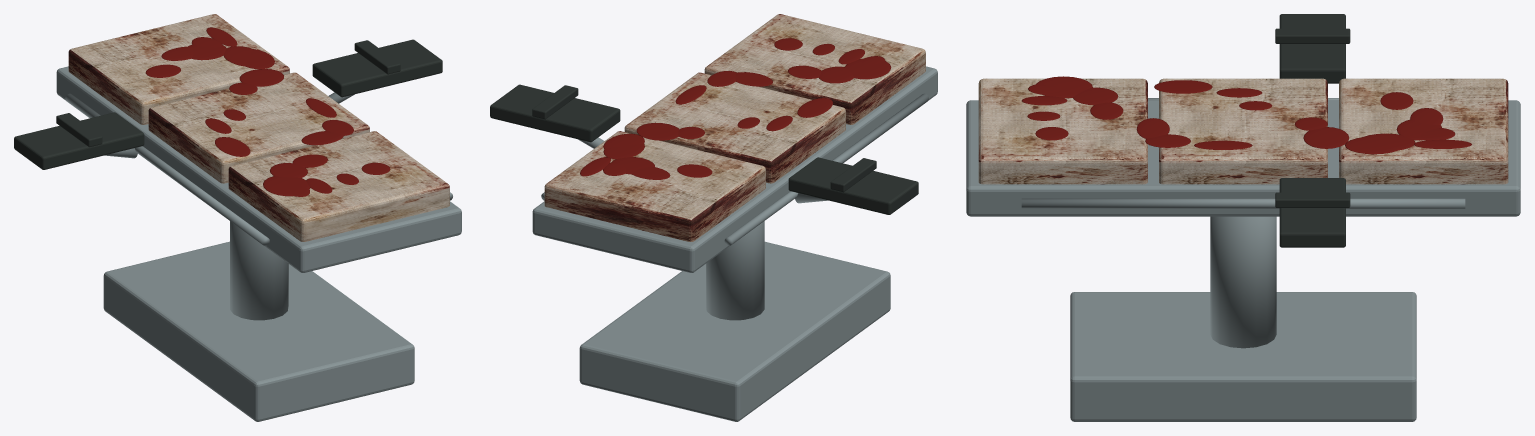
File: operating_table.glb
3 renders of one model, left to right at view 1: azimuth 30°, elevation 25°; view 2: azimuth 150°, elevation 25°; view 3: azimuth 270°, elevation 25°, orthographic. The views are drawn at different scales.
Visible parts, largest first — view 1: operating_table; view 2: operating_table; view 3: operating_table.
Part boxes in pixels (x1,y1,x2,y2): operating_table: (14,14,461,421); operating_table: (490,14,937,421); operating_table: (966,14,1520,421).
Bounding box in the file's own units: 1.88 × 1.06 × 2.
Materials: 4 (1 with a texture image).
